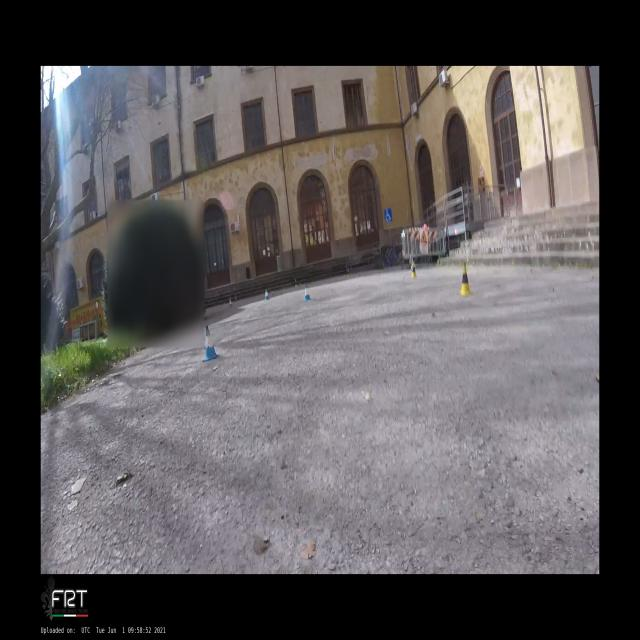blue_cone: (203, 325, 218, 362), (304, 284, 310, 302), (264, 288, 270, 300), (229, 298, 233, 308)
yellow_cone: (459, 262, 472, 296), (411, 262, 416, 278), (346, 268, 350, 277), (294, 279, 298, 287)
